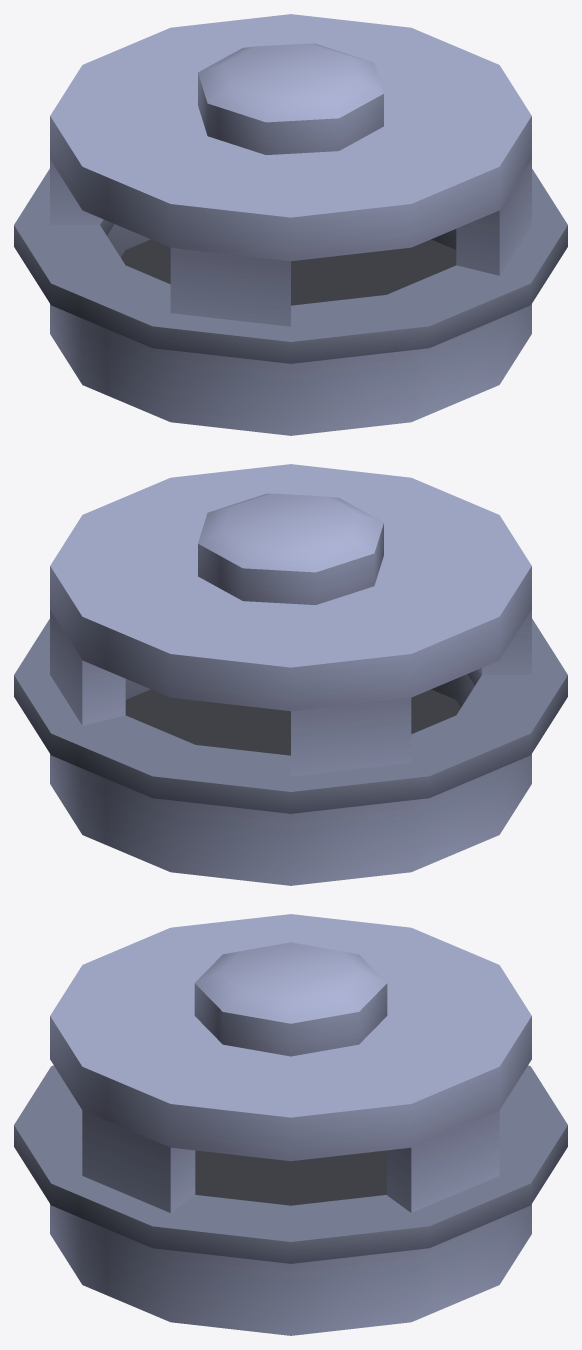
File: kenney-tower-defense-tower-round-middle-c.glb
3 views of the same model, one above another, from view 1: azimuth 30°, elevation 25°; view 2: azimuth 150°, elevation 25°; view 3: azimuth 270°, elevation 25° (orthographic).
Parts seen in each view (by area): view 1: tower-round-middle-c; view 2: tower-round-middle-c; view 3: tower-round-middle-c.
Boxes of the visible parts, bbox=[...] form: tower-round-middle-c: bbox=[14, 14, 567, 435]; tower-round-middle-c: bbox=[14, 464, 567, 885]; tower-round-middle-c: bbox=[14, 914, 567, 1335].
Bounding box in the file's own units: 1.15 × 0.6001 × 1.15.
1 material, 1 textured.
